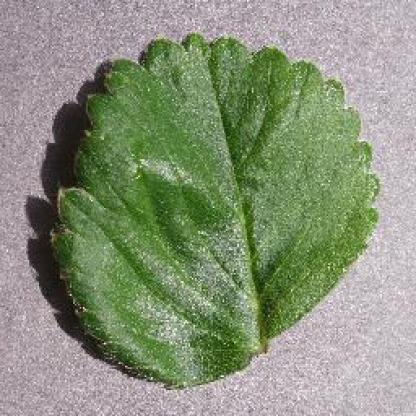healthy: (44, 25, 390, 396)
